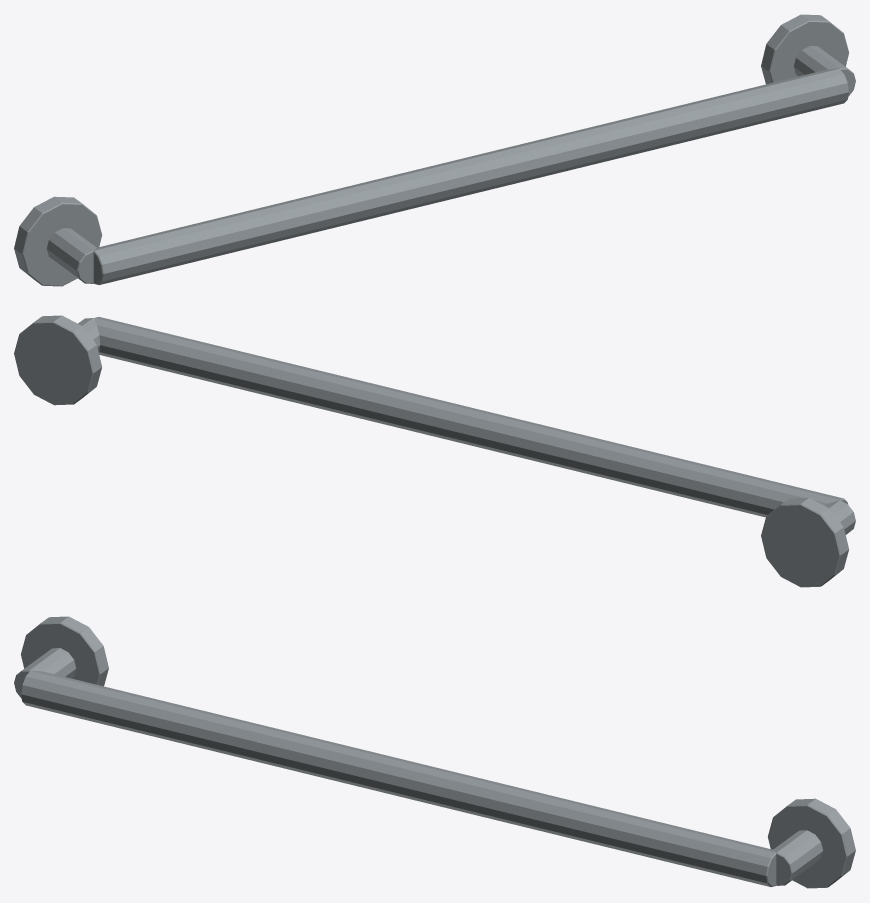
File: restroom_grab_bar.glb
3 renders of one model, top to bottom at view 1: azimuth 30°, elevation 25°; view 2: azimuth 150°, elevation 25°; view 3: azimuth 330°, elevation 25°, orthographic.
Visible parts, largest first — view 1: restroom_grab_bar; view 2: restroom_grab_bar; view 3: restroom_grab_bar.
Part boxes in pixels (x1,y1,x2,y2): restroom_grab_bar: (14,14,855,286); restroom_grab_bar: (14,315,855,587); restroom_grab_bar: (14,616,855,888).
Size of the model in its own units: 0.93 by 0.09 by 0.096.
1 material, 1 textured.
